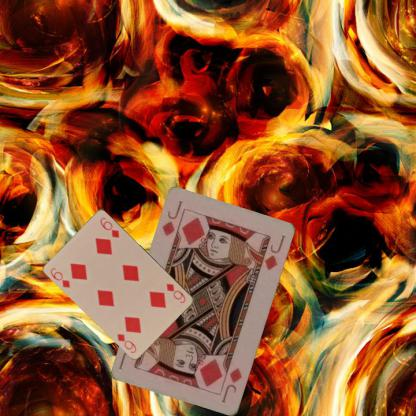6d: (48, 265, 72, 289), (164, 281, 187, 304)
Jd: (160, 198, 184, 239), (219, 365, 243, 405)
